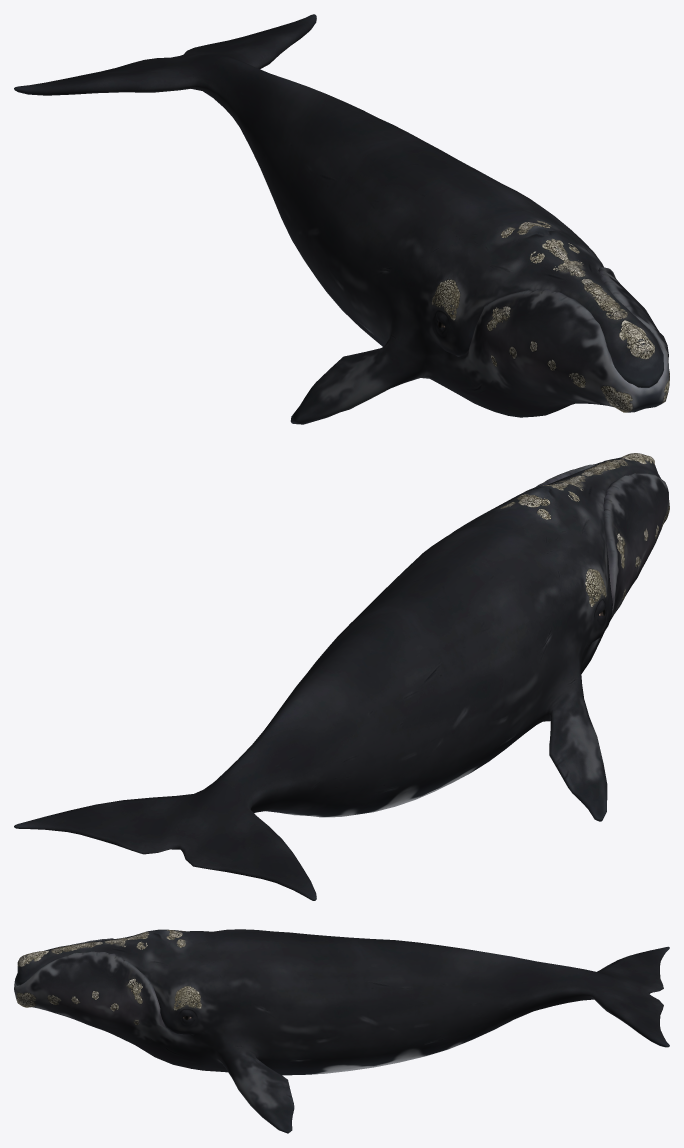
The model's file is north_atlantic_right_whale.glb.
The picture shows the model from 3 angles, top to bottom: view 1: azimuth 30°, elevation 25°; view 2: azimuth 150°, elevation 25°; view 3: azimuth 270°, elevation 25°; orthographic projection. The views are drawn at different scales.
Visible parts, largest first — view 1: Object_6; view 2: Object_6; view 3: Object_6.
Boxes of the visible parts, x1=… form: Object_6: x1=14, y1=14, x2=669, y2=424; Object_6: x1=14, y1=453, x2=669, y2=900; Object_6: x1=14, y1=929, x2=669, y2=1133.
Size of the model in its own units: 3.44 by 2.39 by 9.3.
1 material, 1 textured.
